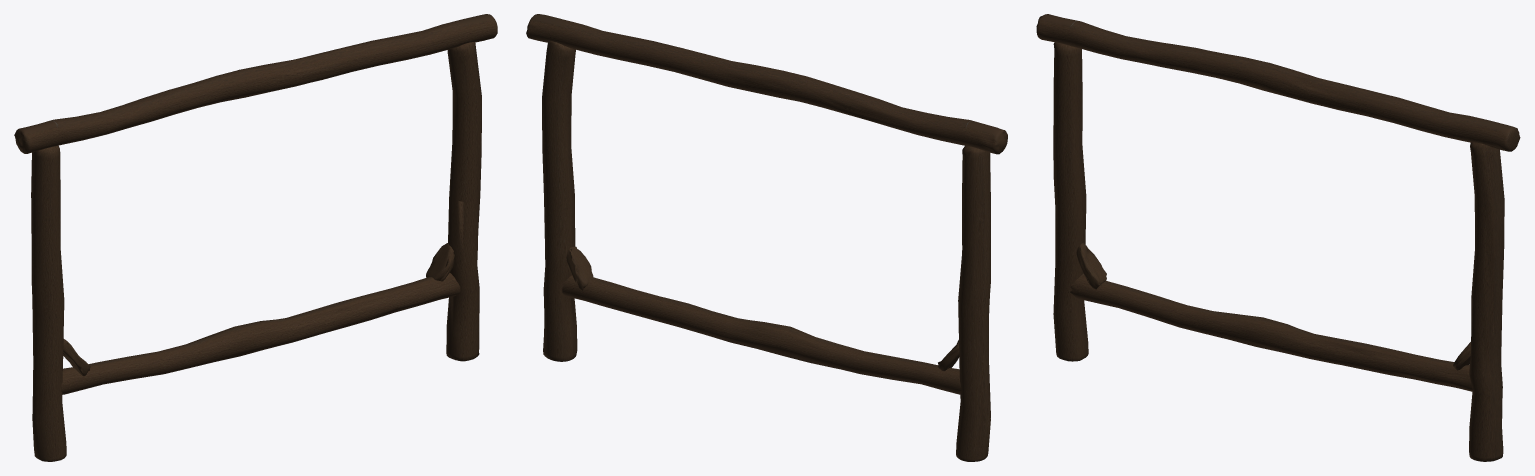
Rendered from ahir.glb.
3 renders of one model, left to right at view 1: azimuth 30°, elevation 25°; view 2: azimuth 150°, elevation 25°; view 3: azimuth 330°, elevation 25°, orthographic.
Bounding box in the file's own units: 0.9531 × 0.6514 × 0.0605.
Materials: 1 (1 with a texture image).
